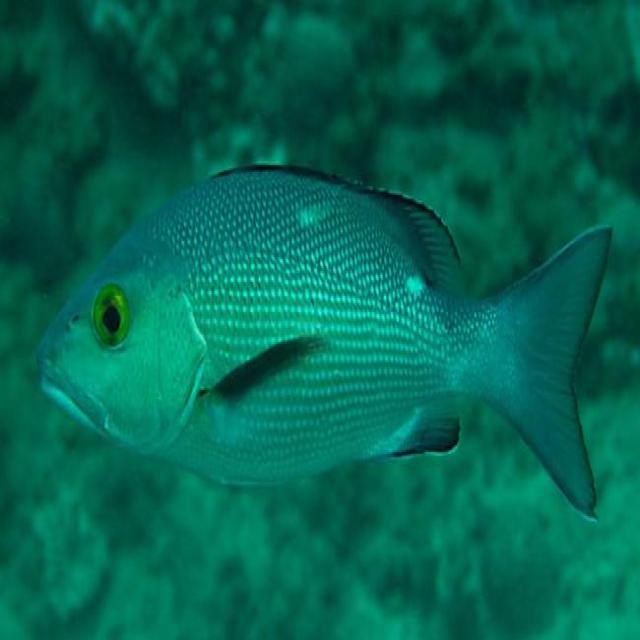ikan: (35, 160, 612, 521)
